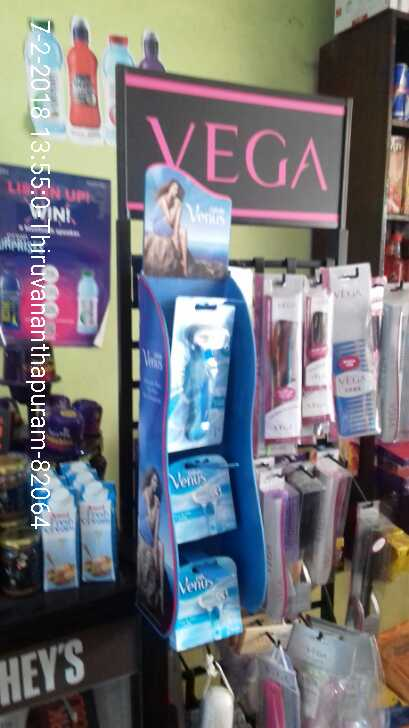venus: (176, 299, 225, 454), (175, 554, 242, 645), (173, 451, 233, 540)
